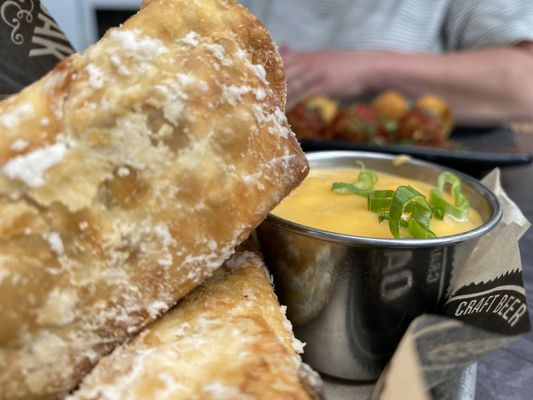sushi: (258, 149, 512, 383)
